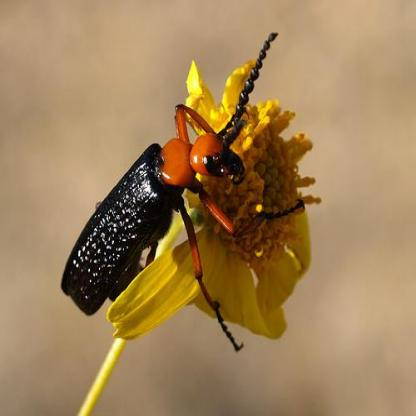beetle: (61, 34, 268, 340)
